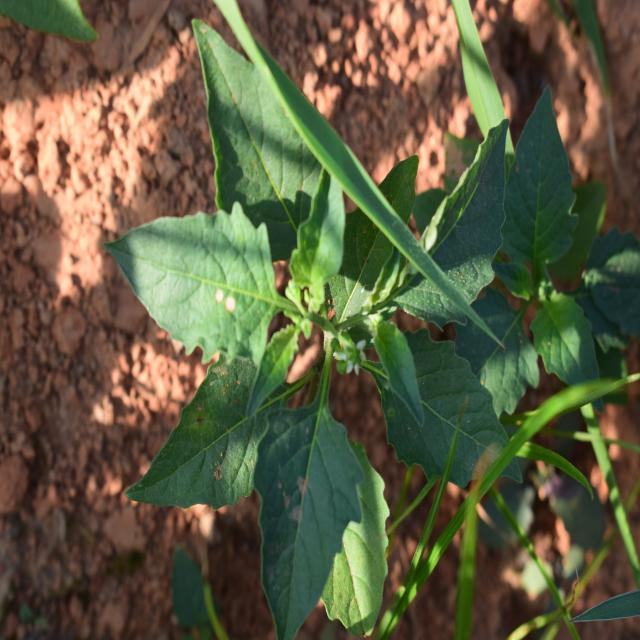Black_nightshade: (158, 63, 500, 592)
